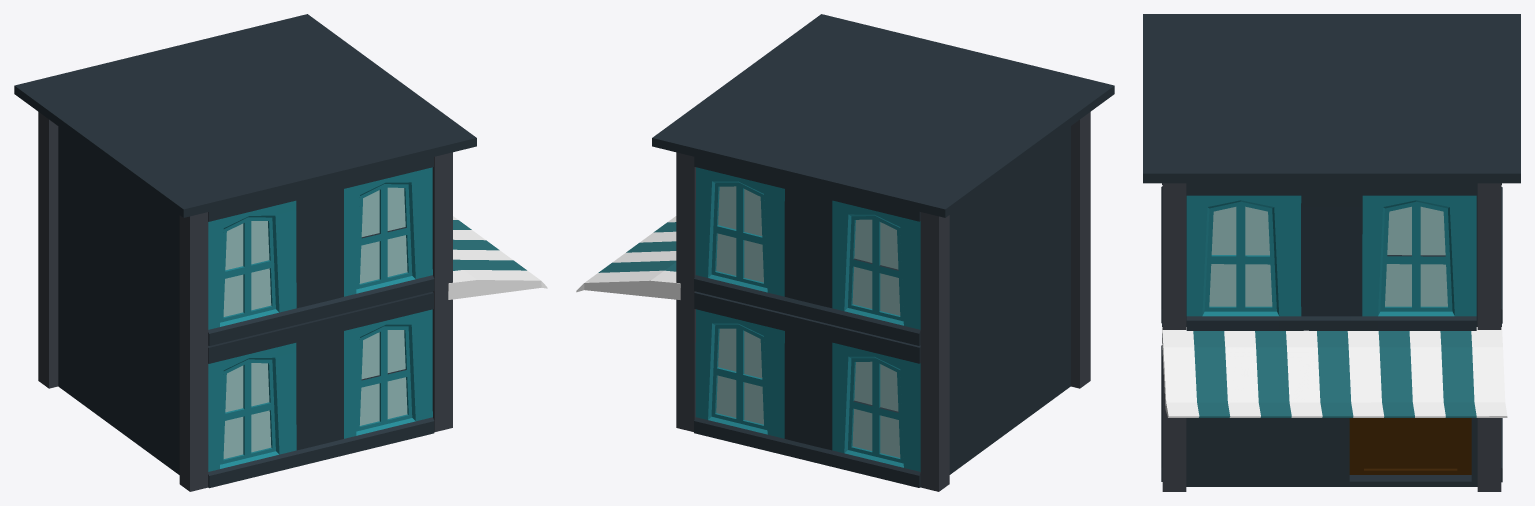
The model's file is buildings_2.fbx_2Story_-_Aqua.fbx.
3 views of the same model, side by side, from view 1: azimuth 30°, elevation 25°; view 2: azimuth 150°, elevation 25°; view 3: azimuth 270°, elevation 25° (orthographic). The views are drawn at different scales.
Parts seen in each view (by area): view 1: Cube.005; view 2: Cube.005; view 3: Cube.005.
Part boxes in pixels (x1,y1,x2,y2): Cube.005: (14,14,547,491); Cube.005: (576,14,1114,491); Cube.005: (1143,14,1520,491).
Bounding box in the file's own units: 1658 × 1237 × 1296.
